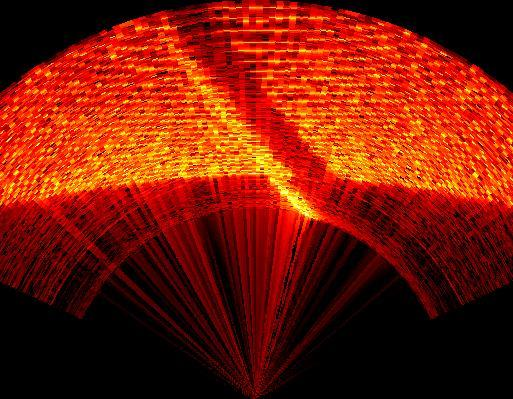pipe: (144, 10, 343, 219)
